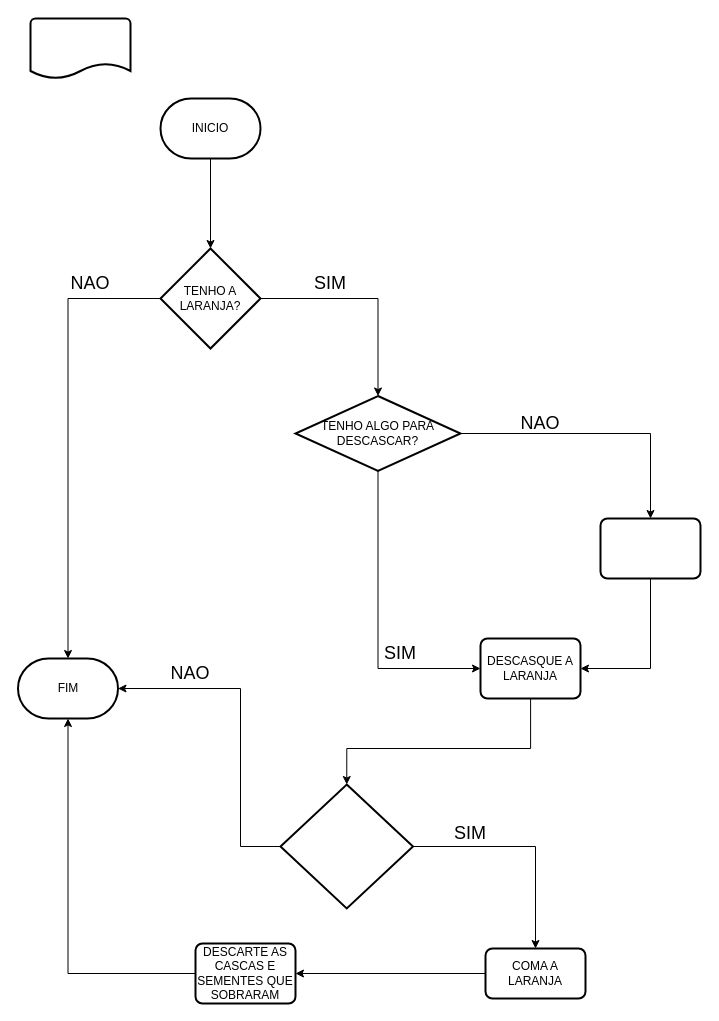
Image size: 719x1021. Some labels were removed from this diagram. Here are the shapes that lost their labels. From the top down, the centre of each, then its label:
At pixel 80 48: "DESCASCAR A LARANJA E COMER".
At pixel 650 548: "PROCURE ALGO PARA DESCASCAR".
At pixel 346 846: "A LARANJA ESTA PROPRIA PARA CONSUMO".
